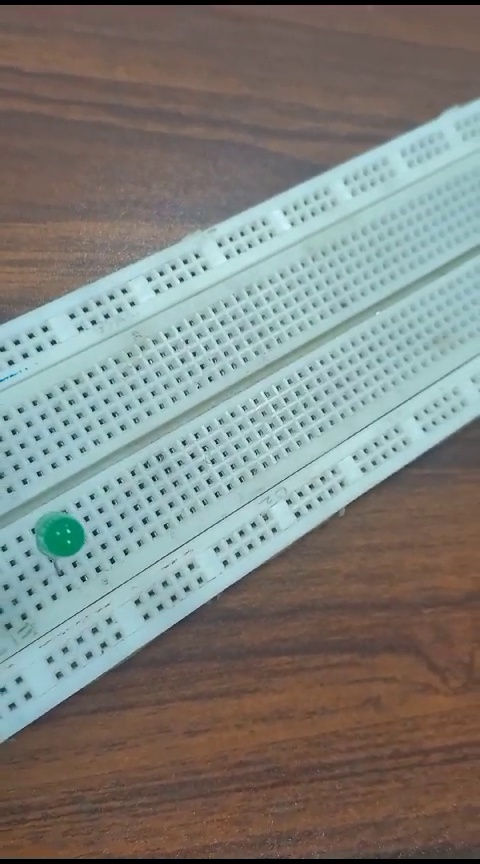LED: (27, 505, 88, 567)
